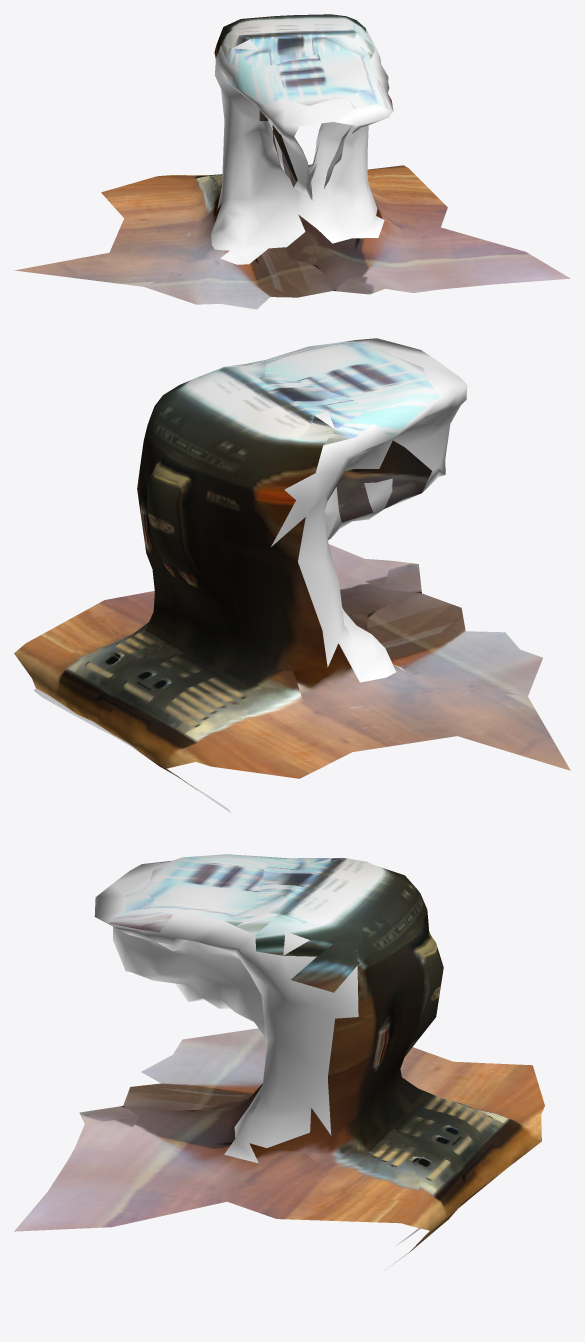
3 views of the same model, one above another, from view 1: azimuth 30°, elevation 25°; view 2: azimuth 150°, elevation 25°; view 3: azimuth 270°, elevation 25° (orthographic). The views are drawn at different scales.
Parts seen in each view (by area): view 1: 2, 0, 1; view 2: 2, 0, 1; view 3: 2, 0, 1.
Part boxes in pixels (left/top/right/bottom): 2: left=14, top=14, right=570, bottom=304; 0: left=211, top=29, right=393, bottom=264; 1: left=216, top=110, right=332, bottom=309; 2: left=14, top=340, right=570, bottom=790; 0: left=34, top=338, right=467, bottom=813; 1: left=327, top=483, right=519, bottom=671; 2: left=14, top=854, right=544, bottom=1251; 0: left=94, top=857, right=465, bottom=1266; 1: left=123, top=1054, right=263, bottom=1111.
Size of the model in its own units: 0.7952 by 0.5076 by 0.7244.
Materials: 3 (2 with a texture image).
